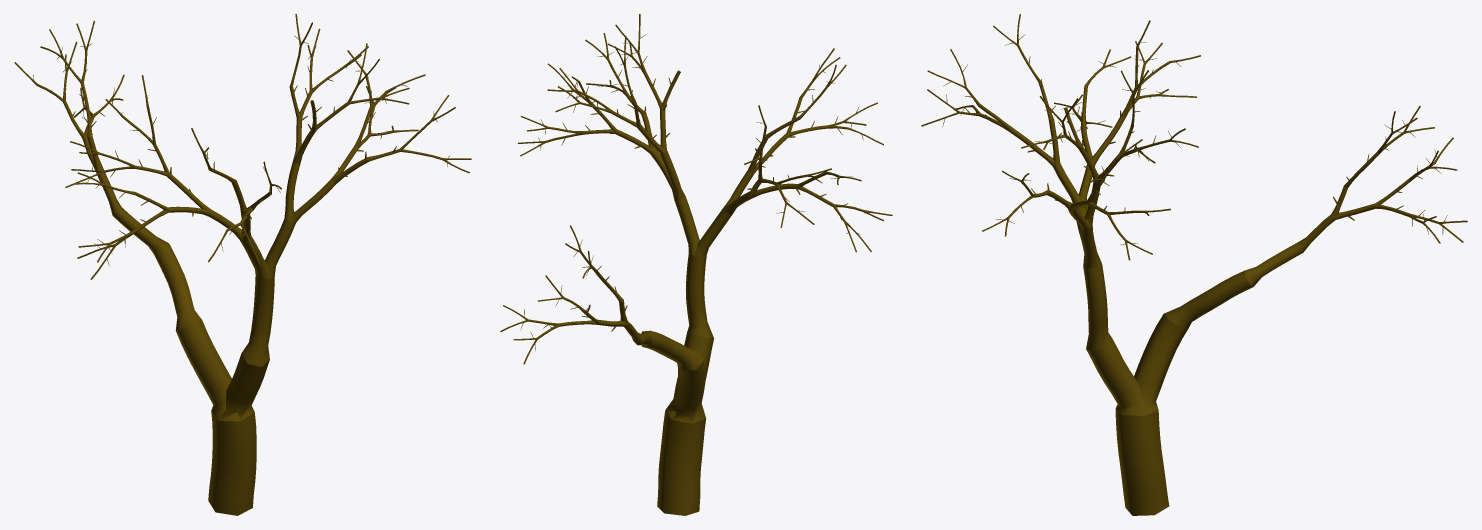
The picture shows the model from 3 angles, left to right: view 1: azimuth 30°, elevation 25°; view 2: azimuth 150°, elevation 25°; view 3: azimuth 270°, elevation 25°; orthographic projection. The views are drawn at different scales.
Visible parts, largest first — view 1: tree; view 2: tree; view 3: tree.
Part boxes in pixels (x1,y1,x2,y2): tree: (14,14,471,515); tree: (500,14,892,515); tree: (921,14,1467,515).
Bounding box in the file's own units: 1.91 × 2.4 × 2.51.
